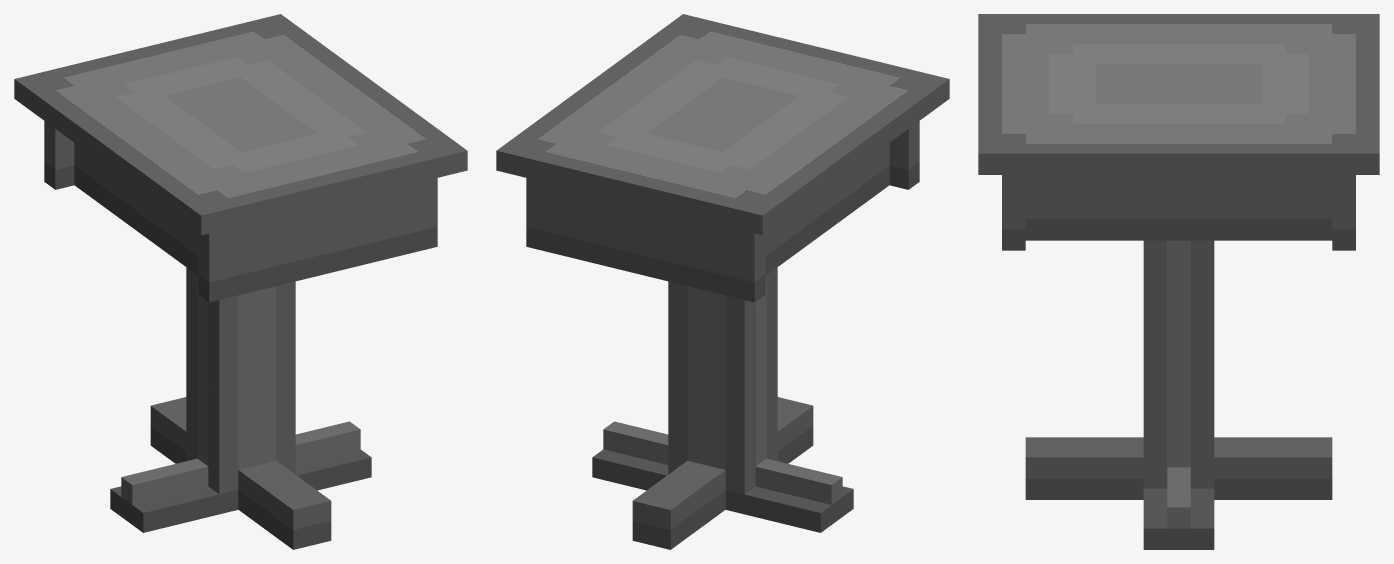
The model's file is table_small.fbx.
The picture shows the model from 3 angles, left to right: view 1: azimuth 30°, elevation 25°; view 2: azimuth 150°, elevation 25°; view 3: azimuth 270°, elevation 25°; orthographic projection. The views are drawn at different scales.
Visible parts, largest first — view 1: table_small; view 2: table_small; view 3: table_small.
Part boxes in pixels (x1,y1,x2,y2): table_small: (14, 14, 467, 549); table_small: (496, 14, 949, 549); table_small: (978, 14, 1379, 549).
Size of the model in its own units: 14 by 19 by 17.
